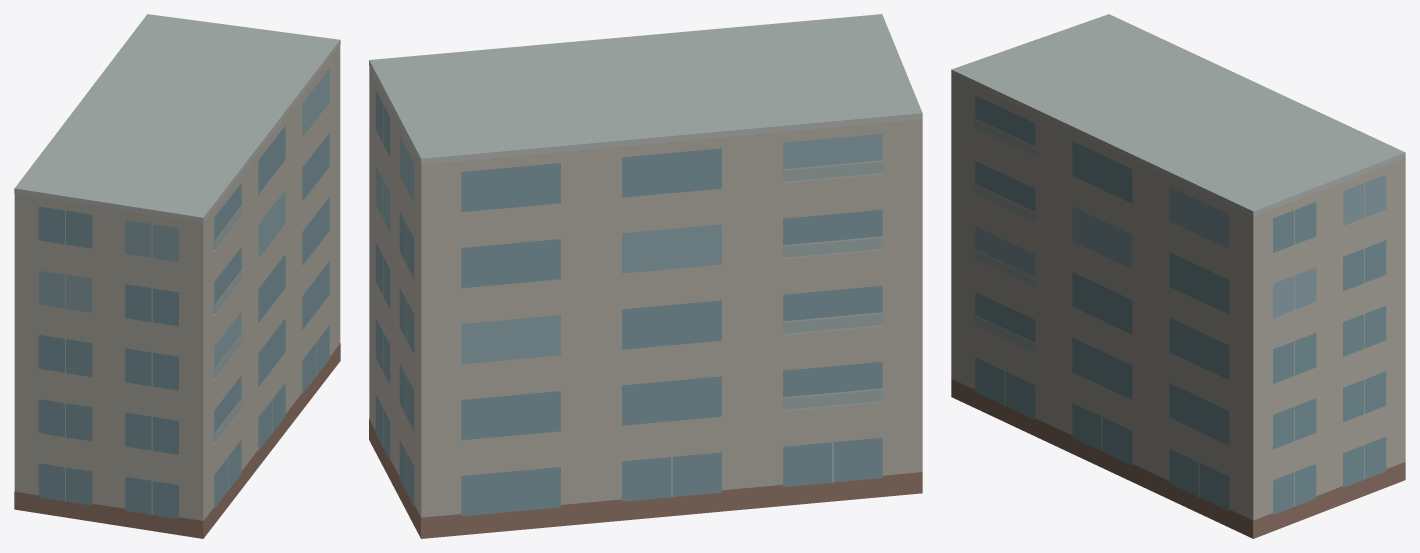
File: survey-upis-32813300.glb
3 views of the same model, side by side, from view 1: azimuth 30°, elevation 25°; view 2: azimuth 150°, elevation 25°; view 3: azimuth 270°, elevation 25° (orthographic). The views are drawn at different scales.
Parts seen in each view (by area): view 1: survey-upis-32813300.tmp; view 2: survey-upis-32813300.tmp; view 3: survey-upis-32813300.tmp.
Part boxes in pixels (bbox=[...]): survey-upis-32813300.tmp: bbox=[14, 14, 340, 538]; survey-upis-32813300.tmp: bbox=[369, 14, 922, 538]; survey-upis-32813300.tmp: bbox=[951, 14, 1405, 538].
Size of the model in its own units: 19.73 by 15.25 by 19.18.
